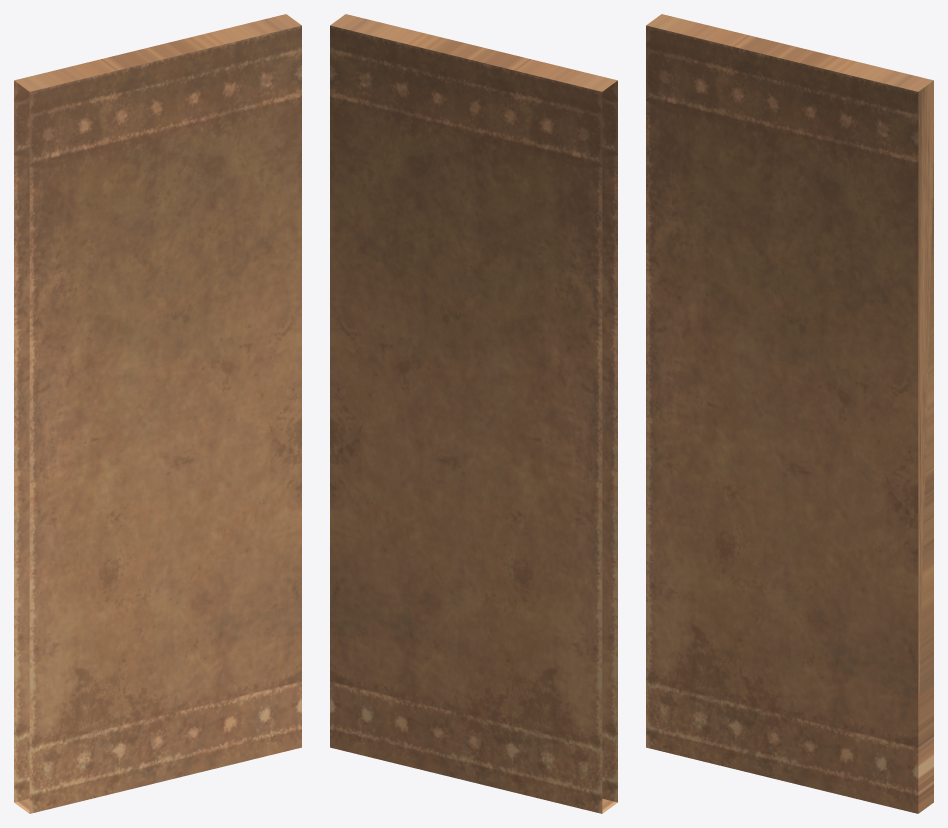
File: Wall_1_1M.fbx
3 views of the same model, side by side, from view 1: azimuth 30°, elevation 25°; view 2: azimuth 150°, elevation 25°; view 3: azimuth 330°, elevation 25° (orthographic).
Visible parts, largest first — view 1: Wall_1_1M; view 2: Wall_1_1M; view 3: Wall_1_1M.
Boxes of the visible parts, x1,y1,x2,y2 form: Wall_1_1M: (14,14,301,813); Wall_1_1M: (330,14,617,813); Wall_1_1M: (646,14,933,813).
Bounding box in the file's own units: 1 × 2.53 × 0.0998.
